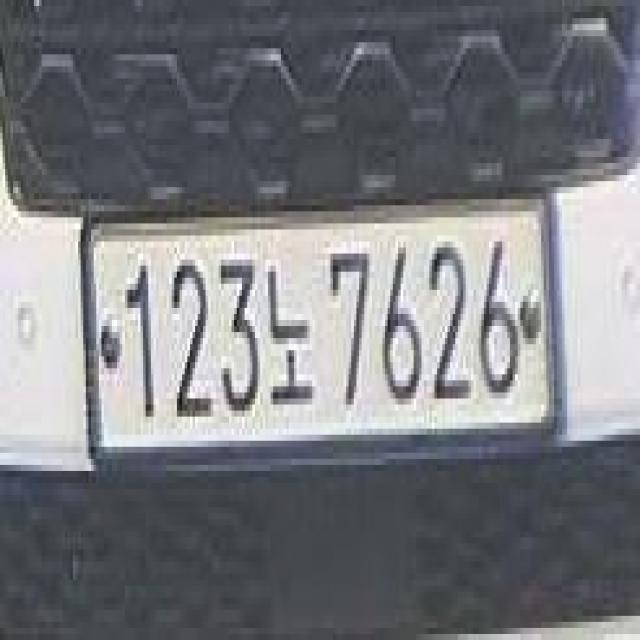illegal_plate: (85, 183, 560, 472)
